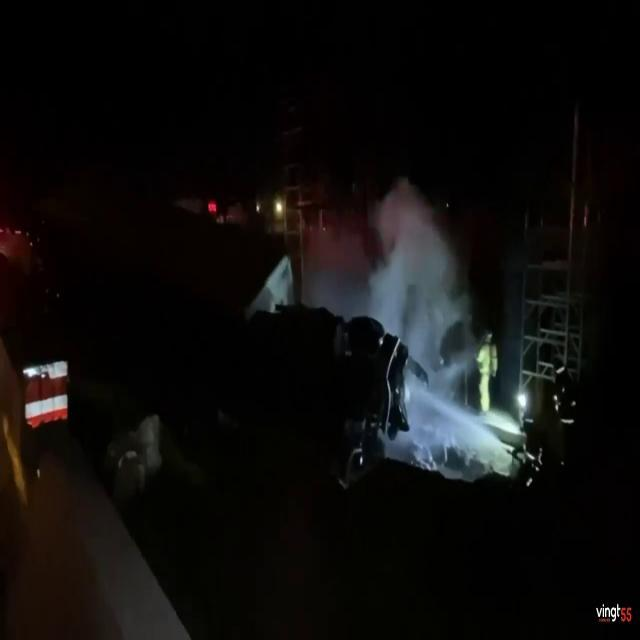Smoke: (358, 175, 482, 428)
